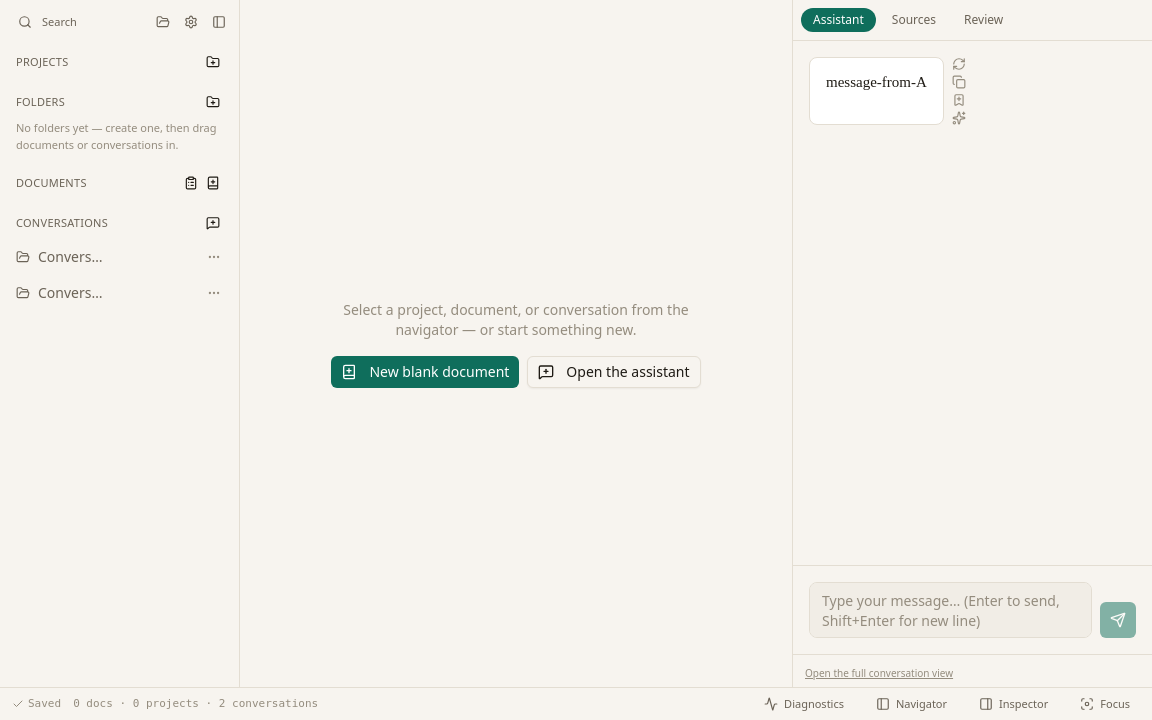
Test: conversation navigation (B02) › selecting B from A makes route, messages, active thread, and next send owner all B
Click the button "Conversation B": (62,257) [16,247,107,267]
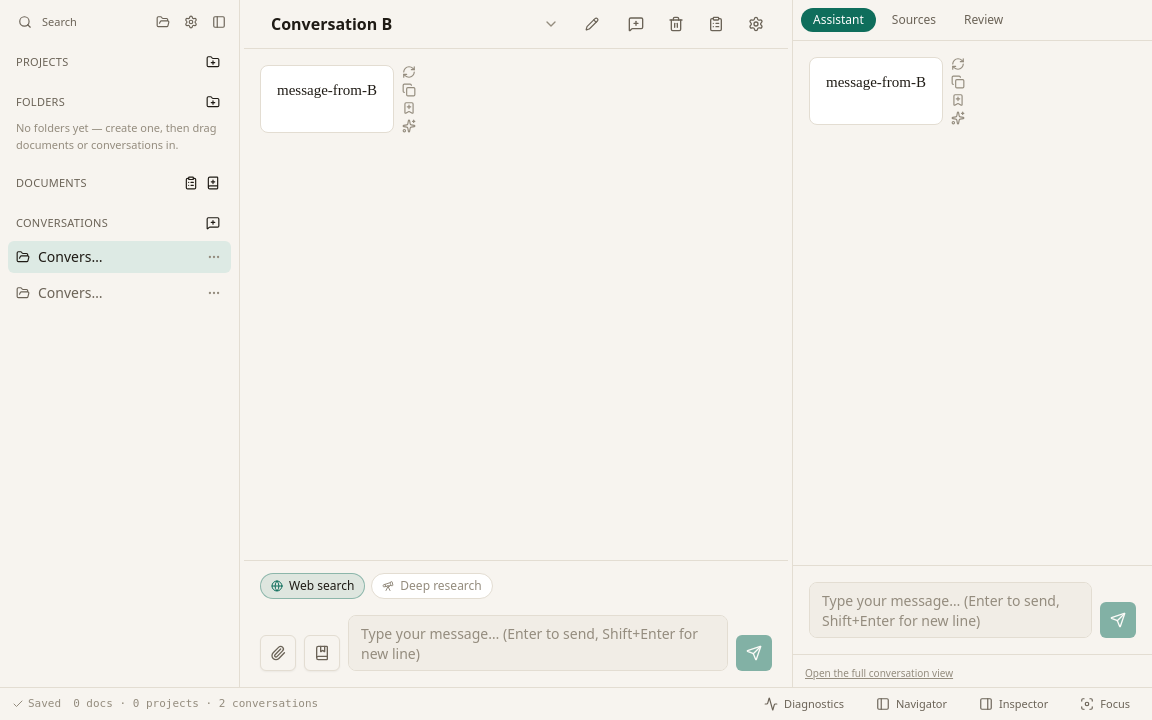
Now the 1st text "message-from-B" is shown, box [277,78,377,102]
Now the text "message-from-A" is not shown
